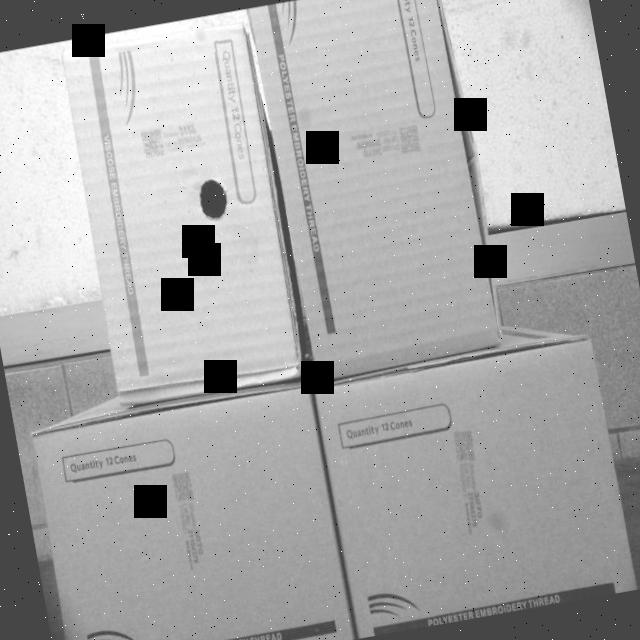box: (313, 334, 637, 638), (59, 20, 306, 408), (252, 0, 501, 378), (32, 387, 353, 640)
